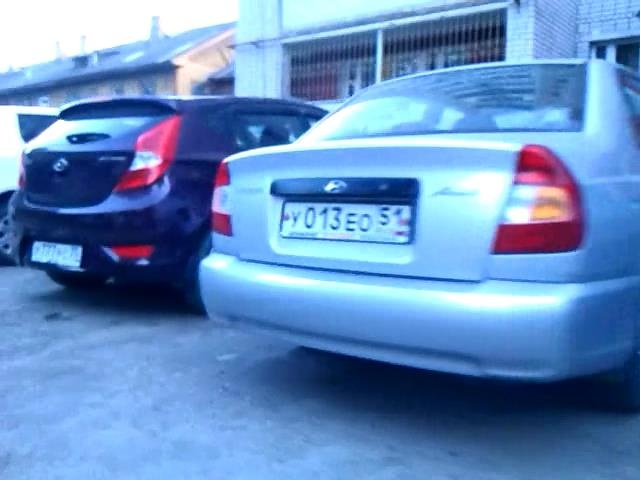car license plate: (280, 201, 411, 250), (30, 239, 82, 269)
